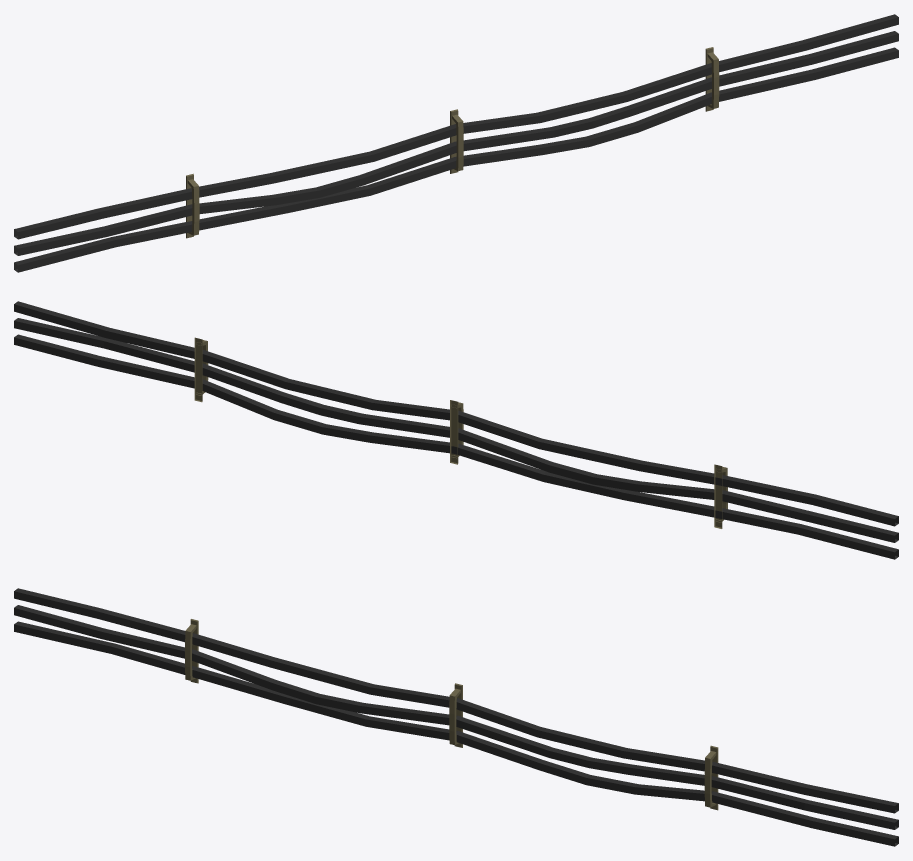
The model's file is SW_ENV_Wires3_StationWall_06_05m.fbx.
3 views of the same model, one above another, from view 1: azimuth 30°, elevation 25°; view 2: azimuth 150°, elevation 25°; view 3: azimuth 330°, elevation 25° (orthographic).
Parts seen in each view (by area): view 1: SW_ENV_Wires3_StationWall_06_05m; view 2: SW_ENV_Wires3_StationWall_06_05m; view 3: SW_ENV_Wires3_StationWall_06_05m.
Boxes of the visible parts, box(x1,y1,x2,y2) form: SW_ENV_Wires3_StationWall_06_05m: box(14, 14, 898, 272); SW_ENV_Wires3_StationWall_06_05m: box(14, 301, 898, 559); SW_ENV_Wires3_StationWall_06_05m: box(14, 588, 898, 846).
Size of the model in its own units: 500 by 35.72 by 7.06.
